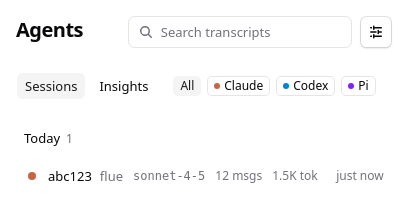
Scenario: AgentsRoute › reports an empty search in words
In the search field labelled "Search transcripts": (240, 32) top-left (128, 16), bottom-right (352, 48), type "zebra"
Then press Enter
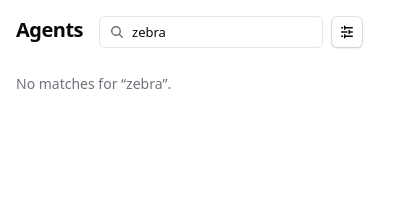
Result: the text "No matches for “zebra”." is shown at top-left (16, 74), bottom-right (171, 93)
